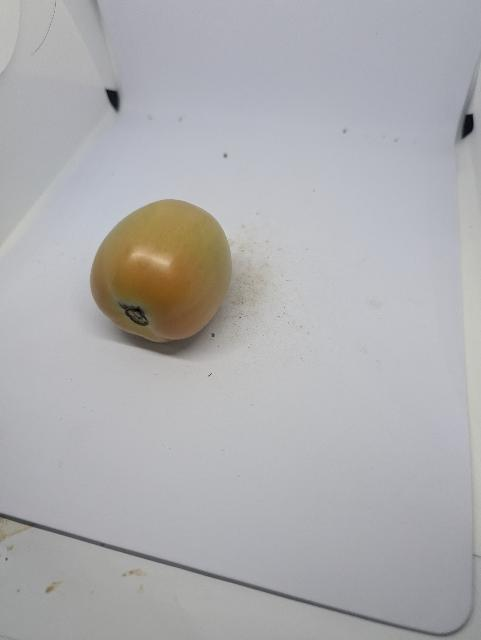turning: (90, 200, 231, 347)
